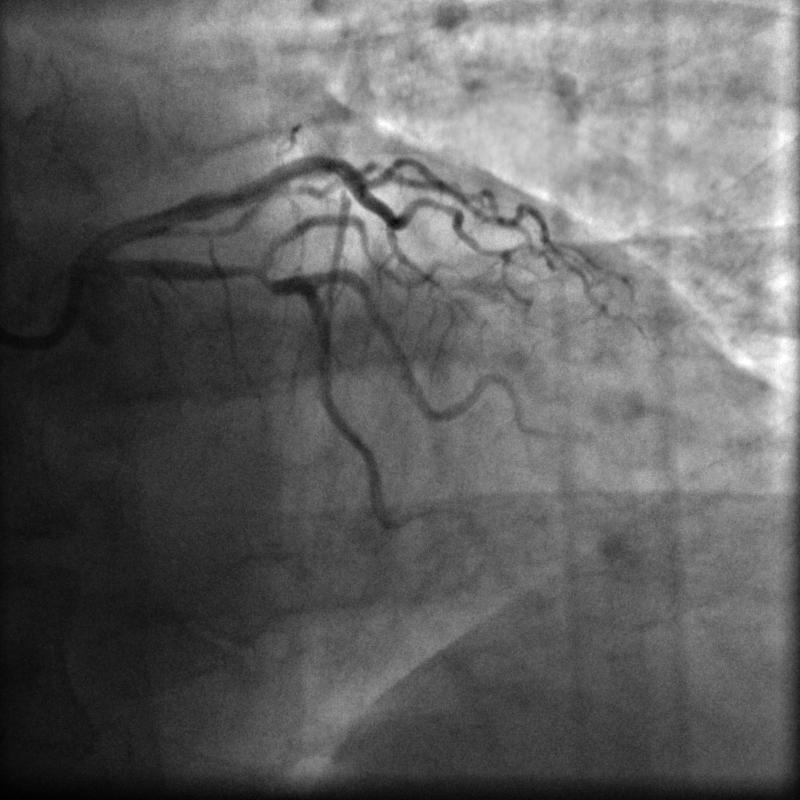Stenosis: (224, 252, 268, 283)
